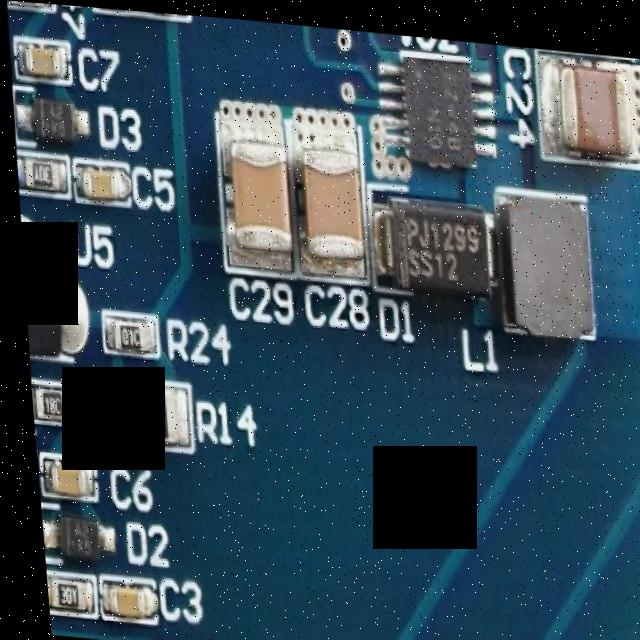IC: (387, 38, 489, 170)
capacitor 1V5: (216, 122, 291, 263), (288, 116, 360, 262), (536, 50, 640, 150), (92, 584, 145, 626), (32, 456, 83, 494), (77, 164, 121, 205), (21, 40, 64, 78)
diode -D1-: (377, 192, 490, 297), (43, 509, 92, 565), (23, 94, 73, 144)
inductor F1: (486, 170, 593, 331)
resistor IR1: (92, 375, 179, 445), (97, 296, 154, 361), (17, 149, 64, 192), (26, 383, 67, 426), (39, 578, 78, 613)
